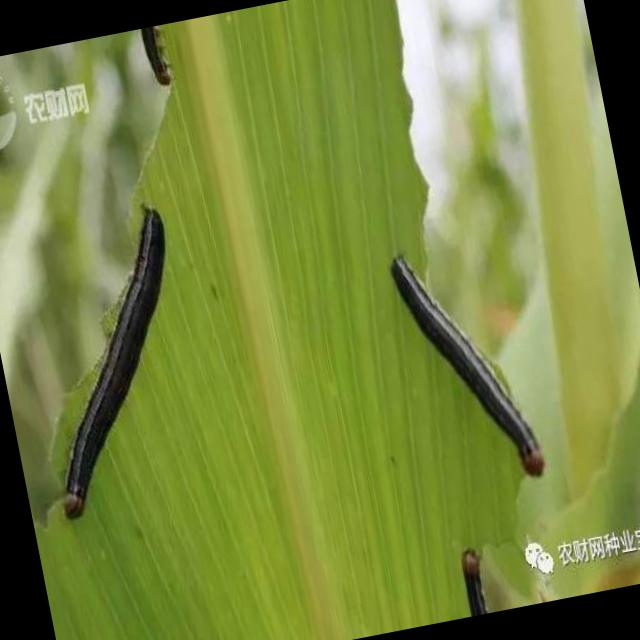pest: (9, 214, 218, 522), (392, 233, 553, 493), (134, 24, 188, 89), (462, 549, 501, 617)
